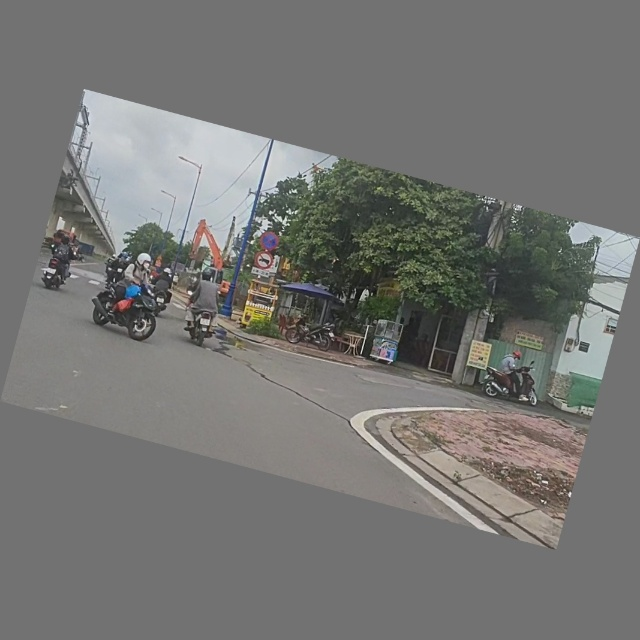B.8a: (252, 250, 276, 272)
P.130: (258, 231, 281, 253)
